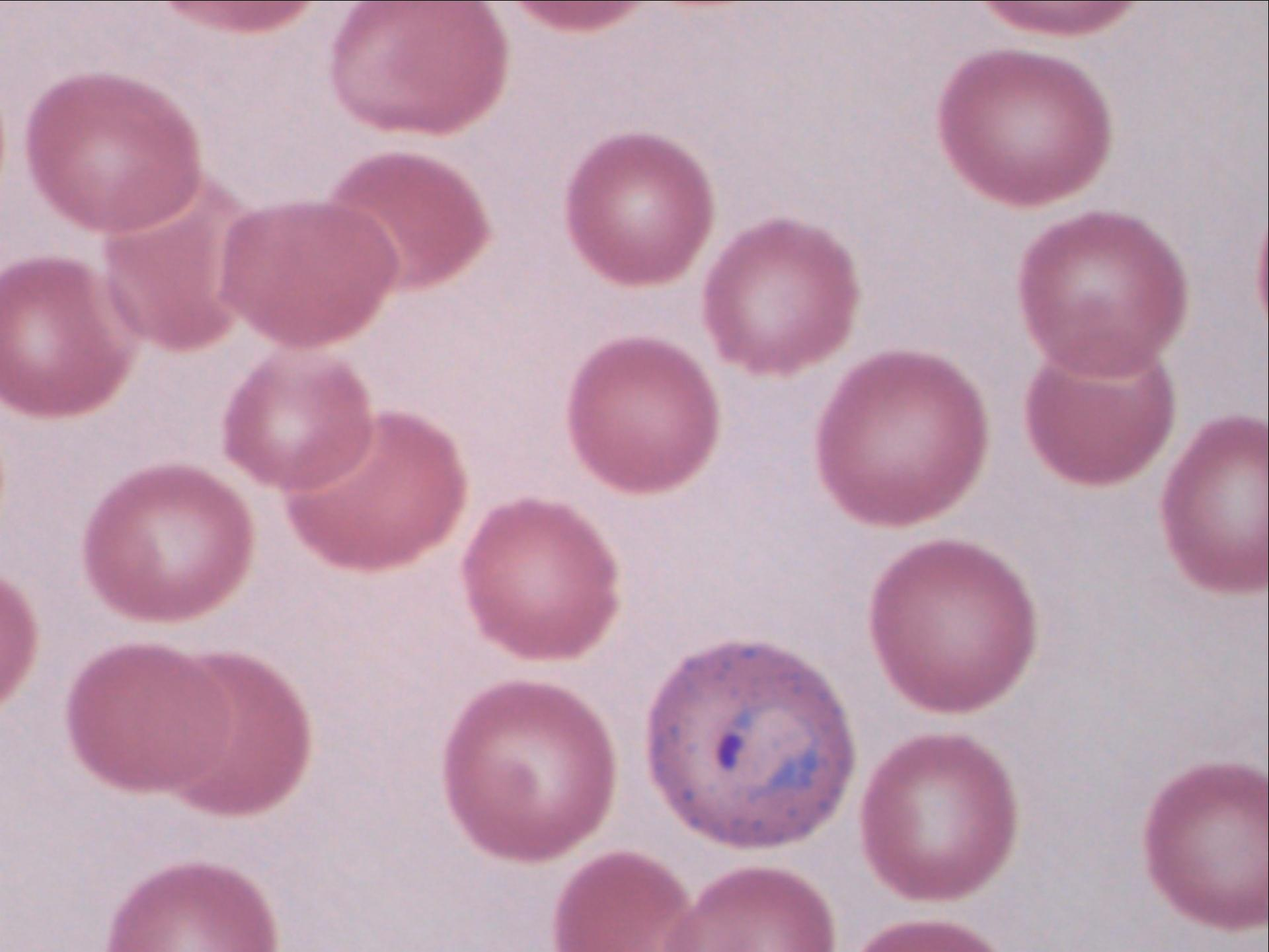Infected: (648, 645, 852, 848)
Uninfected: (444, 681, 613, 863), (818, 352, 985, 525), (874, 542, 1037, 714), (289, 412, 463, 569), (1018, 212, 1180, 376), (104, 162, 248, 345), (28, 73, 200, 225), (937, 52, 1106, 205), (83, 468, 252, 619), (225, 203, 395, 349), (861, 734, 1012, 898), (154, 654, 307, 815), (335, 0, 510, 139), (334, 152, 496, 298), (468, 502, 618, 659), (704, 218, 858, 370), (71, 644, 228, 792), (572, 337, 720, 492), (0, 258, 140, 415), (573, 134, 714, 287), (225, 344, 374, 485), (1148, 762, 1268, 928), (1031, 347, 1174, 484), (1162, 415, 1269, 596), (554, 846, 707, 952), (106, 864, 272, 952), (668, 867, 833, 952)
